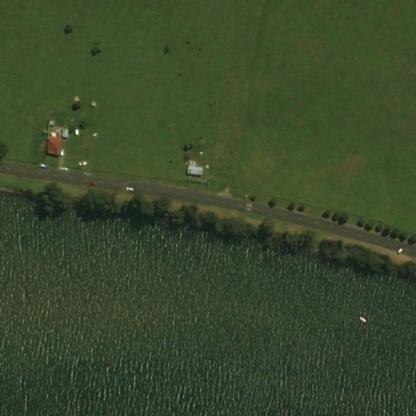ship: (358, 315, 366, 322)
